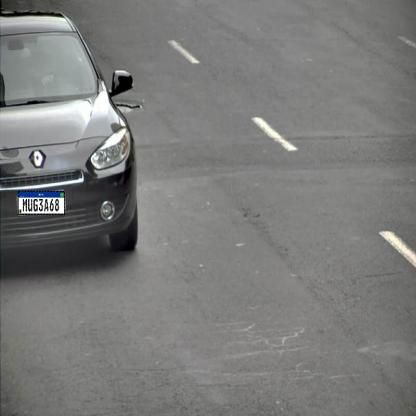PlacaM: (18, 191, 65, 215)
